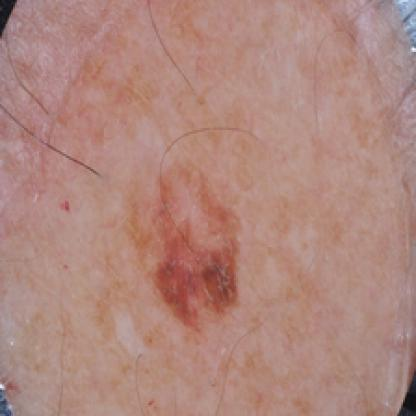malignant: (137, 184, 260, 321)
